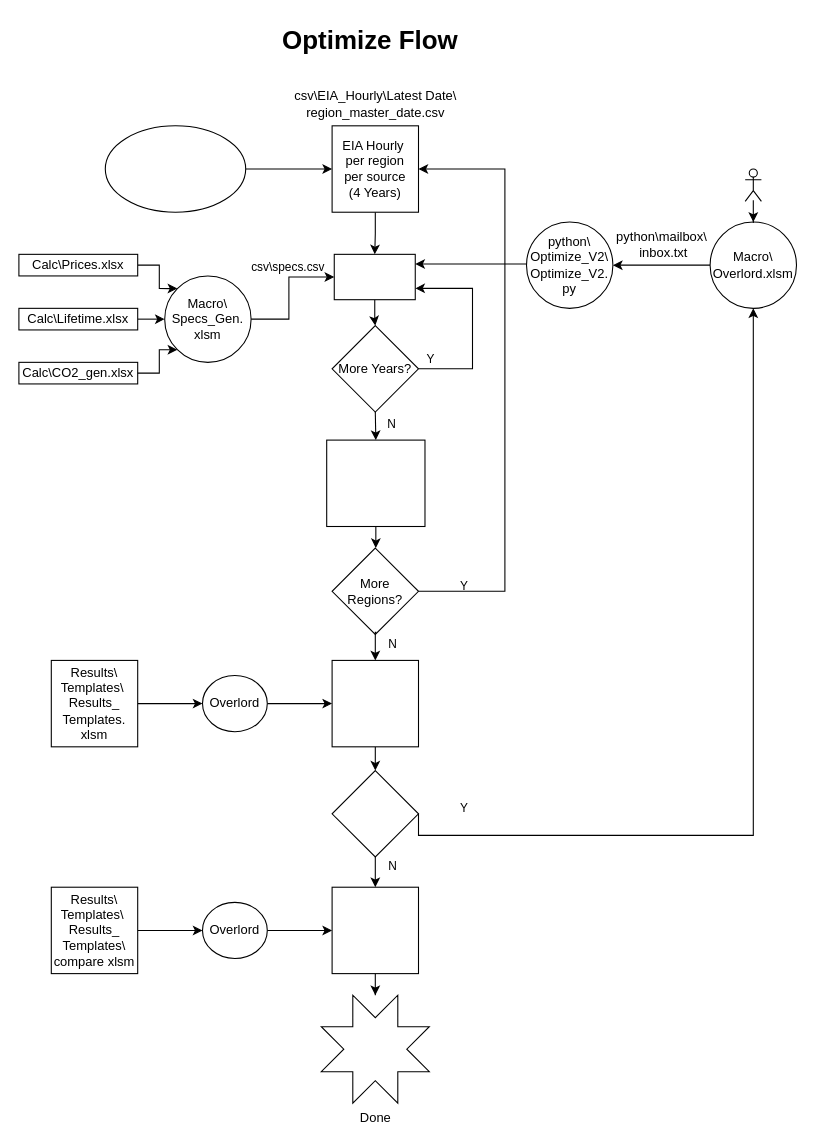
The diagram is 815 pixels wide and 1144 high, and some of its shapes have lost their labels. Each missing label, with the box of its shape:
Find Best Mix: (333, 253, 415, 300)
Make python\ mailbox\ outbox\ results_title.csv: (326, 439, 425, 526)
More Cases?: (331, 770, 418, 857)
Python\ EIA_Downloader\ EIA_Downloader.py: (104, 125, 246, 212)
Results\ Dir_Name\ compare. xlsm: (331, 886, 418, 974)
Results\ DirName\ Results_title. xlsm: (331, 659, 418, 747)
User: (744, 168, 761, 201)
